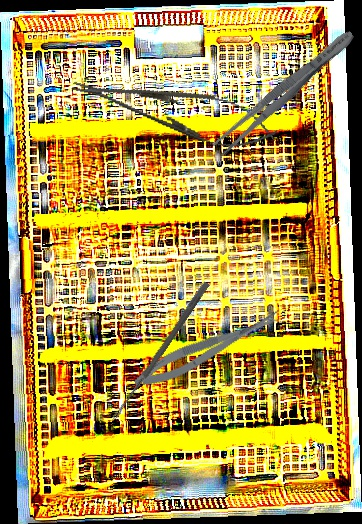Dressing Forceps: (209, 24, 360, 160)
Micro Scissor: (129, 305, 287, 395)
Needle Holder: (67, 61, 282, 159)
Surgical Spoon: (111, 280, 210, 422)
